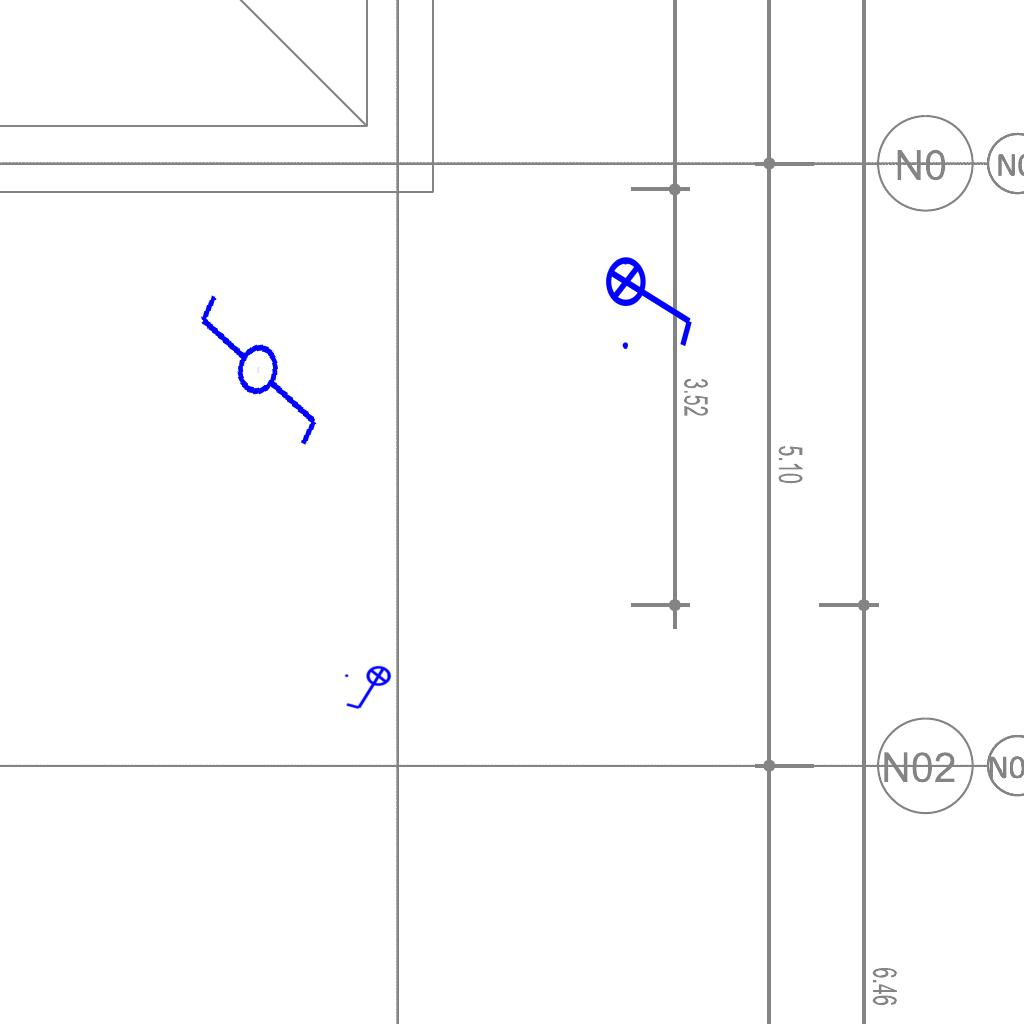Ausschalter_beleuchtet: (604, 243, 700, 355), (342, 665, 398, 713)
Wechselschalter: (176, 272, 347, 452)
